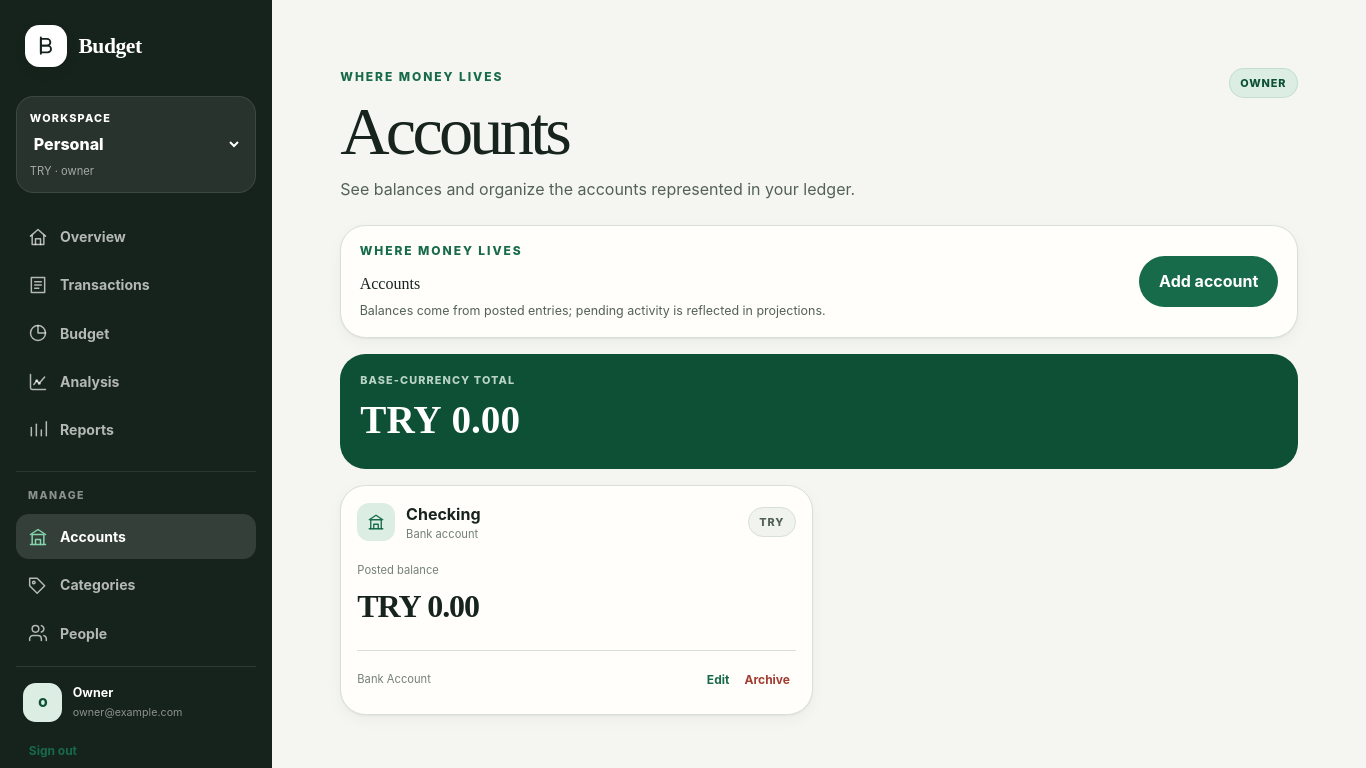
Test: deep-links into a workspace destination and navigates without losing its workspace
The width and height of the screenshot is (1366, 768).
Expected: the 1st heading "Accounts" is shown, [340, 93, 568, 169]
Expected: the text "Checking" is shown, [406, 504, 480, 524]
Click the link "Categories" at (82, 585), box [28, 575, 135, 595]
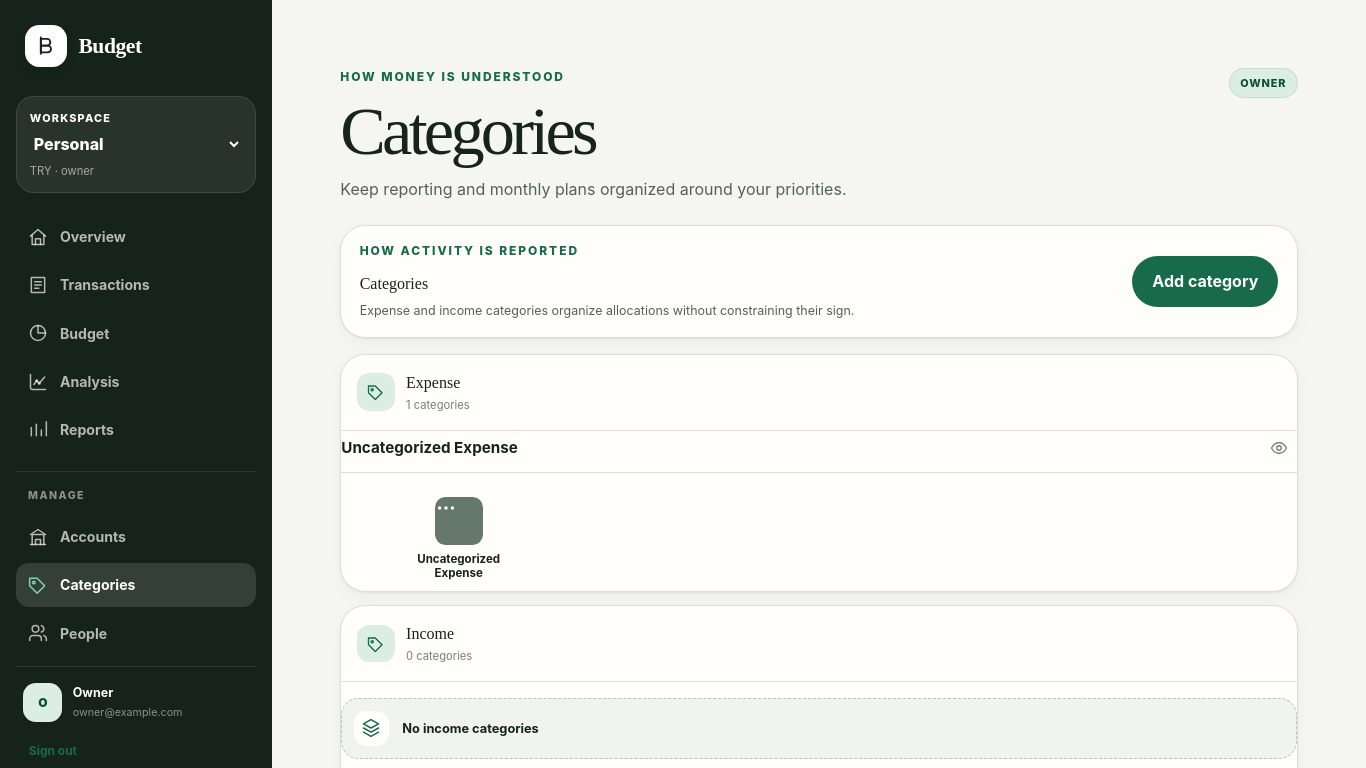
Expected: the heading "Categories" below "How money is understood" is shown, [340, 93, 595, 169]
Expected: the heading "Uncategorized Expense" is shown, [341, 437, 518, 460]
Click the button "Uncategorized Expense" at (459, 539), box [387, 487, 531, 591]
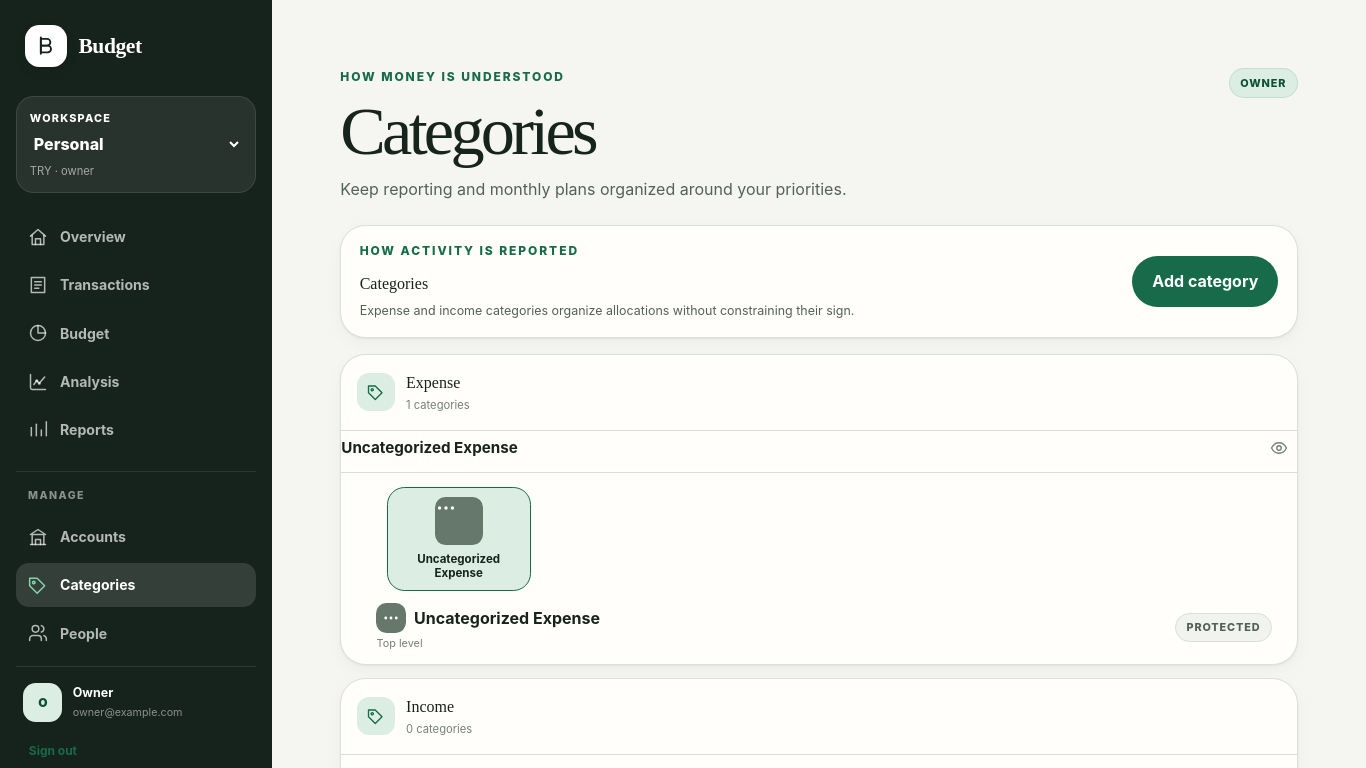
Expected: the text "Protected" is shown, [1175, 613, 1272, 642]
